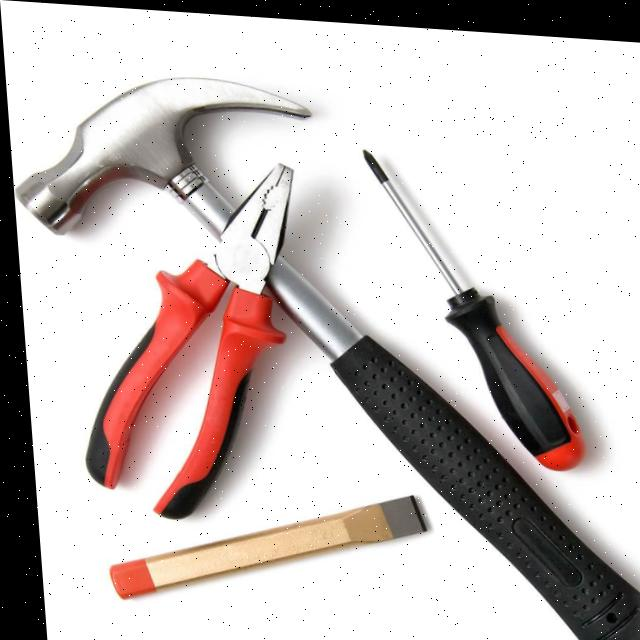Screwdriver: (362, 145, 579, 462)
